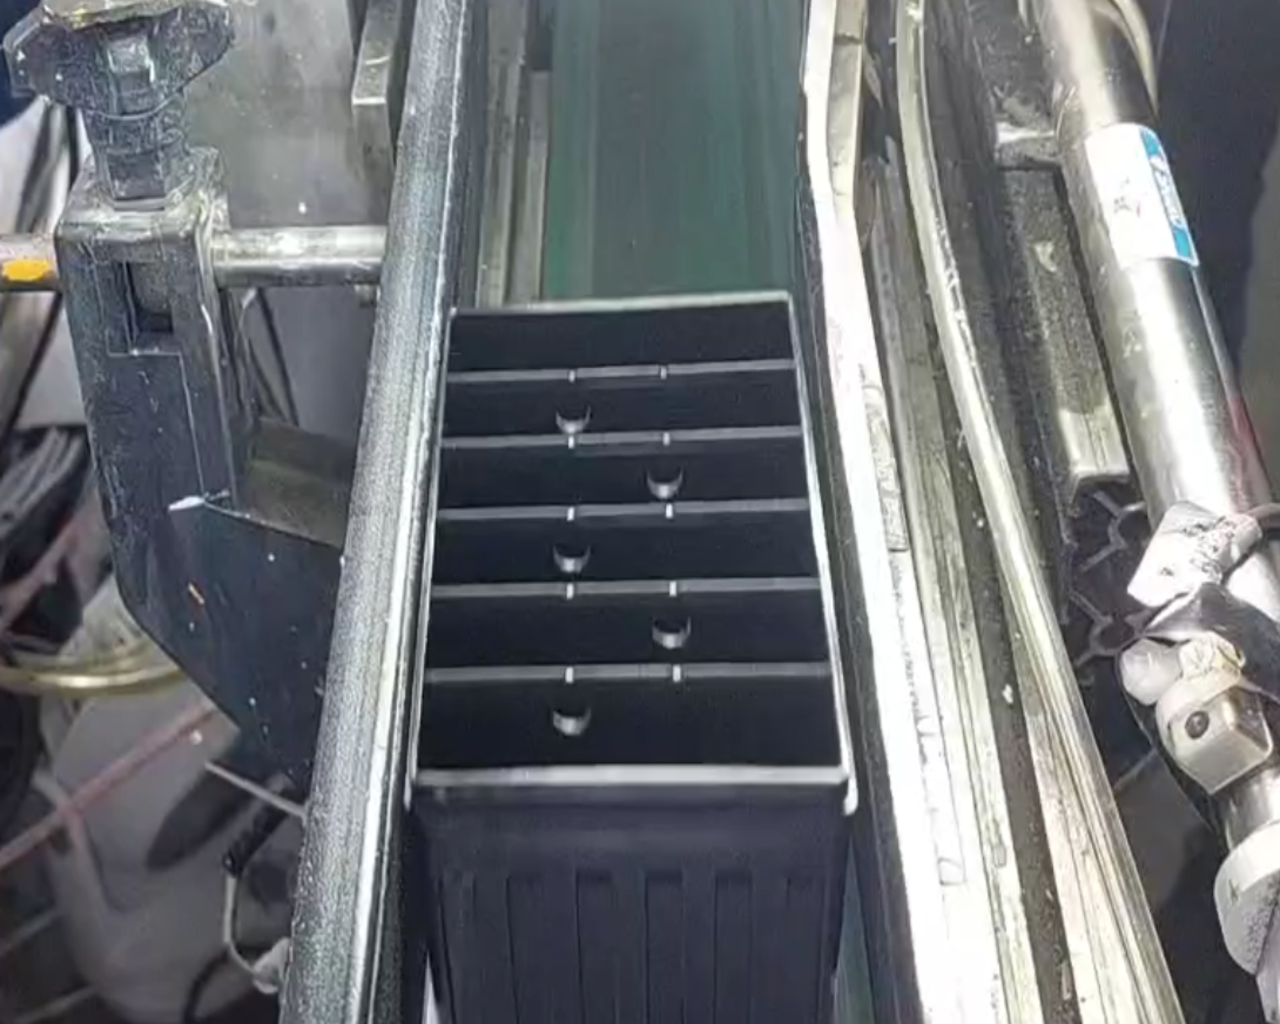box: (375, 253, 883, 833)
round: (527, 674, 609, 744), (631, 592, 709, 660), (534, 520, 610, 588), (629, 443, 706, 510), (537, 383, 606, 445)
